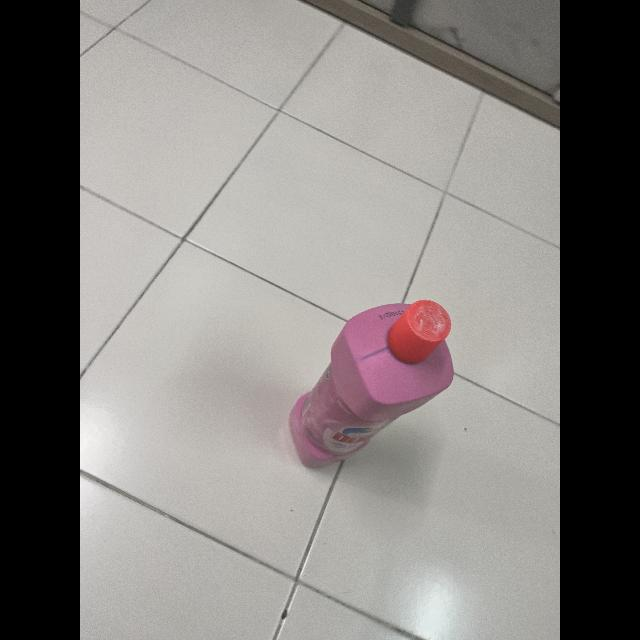chemical_plastic_bottle: (276, 293, 464, 472)
